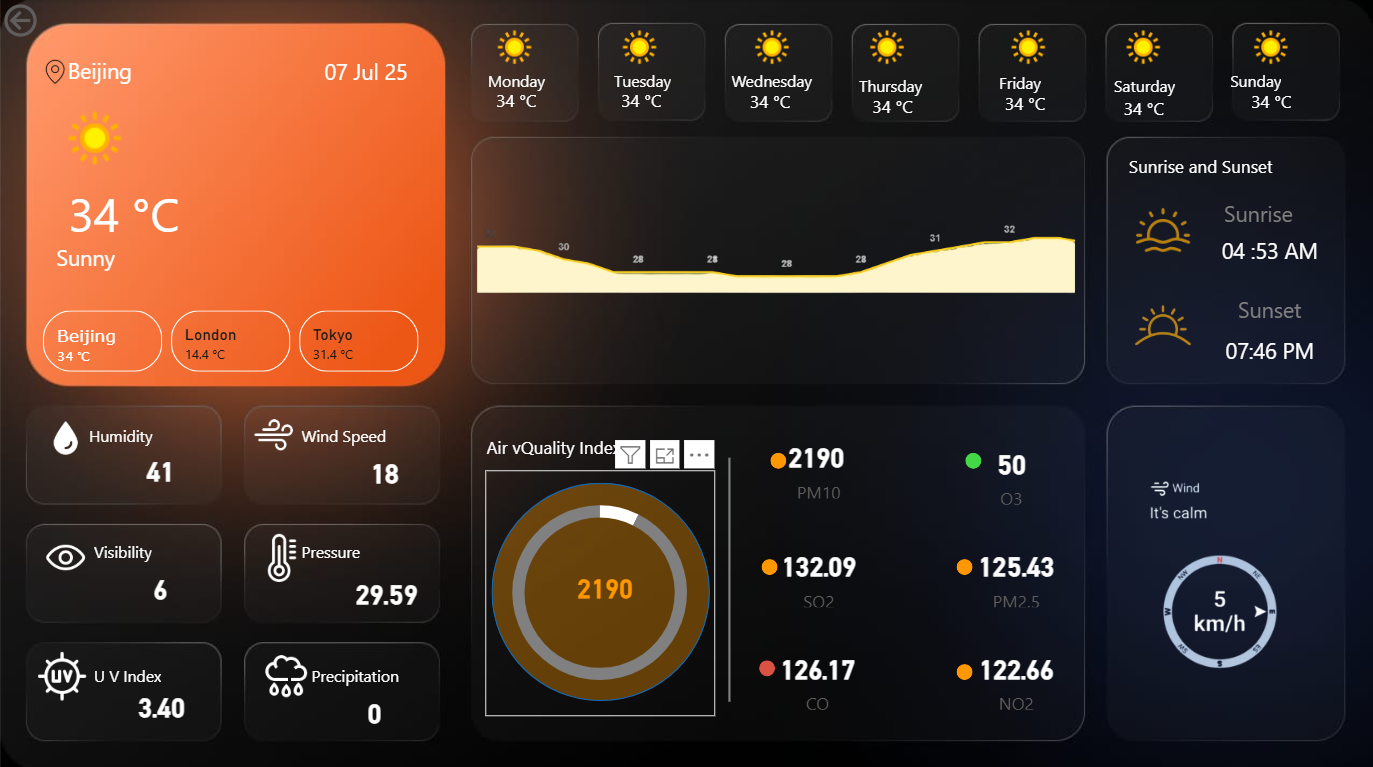

What the dashboard file says about the page in this screenshot:
{"tool":"powerbi","page":{"name":"Page 1","canvas":[1280,720],"ordinal":0},"visuals":[{"type":"shape","box":[457.7,450.2,203.1,203.1],"z":0},{"type":"shape","box":[17.8,144.1,197.6,109.8],"z":1000},{"type":"shape","box":[53.5,185.2,197.6,109.8],"z":2000},{"type":"shape","box":[64.5,37,140,57.6],"z":3000},{"type":"shape","box":[281.3,32.9,98.8,67.2],"z":4000},{"type":"image","box":[17.8,31.6,70,72.7],"z":5000},{"type":"advancedSlicerVisual","fields":{"Values":["Loccation.location.name"]},"box":[36,285.2,360.2,67.5],"z":6000},{"type":"cardVisual","fields":{"Data":["Min(Current.current.condition.icon)"]},"box":[24.7,68.6,126.2,98.8],"z":7000},{"type":"image","box":[229.2,381.5,52.1,48],"z":8000},{"type":"shape","box":[281.3,381.5,134.5,48],"z":9000},{"type":"image","box":[35.7,489.9,52.1,60.4],"z":10000},{"type":"image","box":[28.8,601,59,57.6],"z":11000},{"type":"image","box":[236,489.9,54.9,60.4],"z":12000},{"type":"image","box":[236,601,61.7,57.6],"z":13000},{"type":"image","box":[35.7,387,52.1,42.5],"z":14000},{"type":"shape","box":[1050.7,130.6,186.1,48],"z":15000},{"type":"shape","box":[87.8,489.9,134.5,48],"z":16000},{"type":"shape","box":[281.3,489.9,134.5,48],"z":17000},{"type":"shape","box":[87.8,605.1,134.5,48],"z":18000},{"type":"shape","box":[290.9,605.1,134.5,48],"z":19000},{"type":"card","fields":{"Values":["Sum(Current.current.humidity)"]},"box":[98.8,406.2,102.9,67.2],"z":20000},{"type":"card","fields":{"Values":["Sum(Current.current.wind_kph)"]},"box":[318.2,408.3,81.1,66],"z":21000},{"type":"card","fields":{"Values":["Sum(Current.current.vis_miles)"]},"box":[98.8,514.6,102.9,67.2],"z":22000},{"type":"card","fields":{"Values":["Sum(Current.current.pressure_in)"]},"box":[308.7,520.1,102.9,67.2],"z":23000},{"type":"card","fields":{"Values":["Sum(Current.current.uv)"]},"box":[100.2,625.7,102.9,67.2],"z":24000},{"type":"card","fields":{"Values":["Sum(Current.current.precip_in)"]},"box":[297.2,630.4,103.6,67.5],"z":25000},{"type":"actionButton","box":[0,0,100,40],"z":26000},{"type":"shape","box":[454.8,51,135.1,48],"z":27000},{"type":"shape","box":[571.9,51,135.1,48],"z":28000},{"type":"shape","box":[681.4,51,135.1,48],"z":29000},{"type":"shape","box":[800,55.5,135.1,48],"z":30000},{"type":"shape","box":[930.6,54,135.1,48],"z":31000},{"type":"shape","box":[1037.2,55.5,135.1,48],"z":32000},{"type":"shape","box":[1145.2,51,135.1,48],"z":33000},{"type":"cardVisual","fields":{"Data":["Min(Forcast_Day.Day_Name)"]},"box":[426.3,0,106.6,75],"z":34000},{"type":"cardVisual","fields":{"Data":["Min(Forcast_Day.Day_Name)"]},"box":[543.3,0,106.6,75],"z":35000},{"type":"cardVisual","fields":{"Data":["Min(Forcast_Day.Day_Name)"]},"box":[773,0,106.6,75],"z":36000},{"type":"cardVisual","fields":{"Data":["Min(Forcast_Day.Day_Name)"]},"box":[666.4,0,106.6,75],"z":37000},{"type":"cardVisual","fields":{"Data":["Min(Forcast_Day.Day_Name)"]},"box":[1130.2,0,106.6,75],"z":38000},{"type":"cardVisual","fields":{"Data":["Min(Forcast_Day.Day_Name)"]},"box":[905.1,0,106.6,75],"z":39000},{"type":"cardVisual","fields":{"Data":["Min(Forcast_Day.Day_Name)"]},"box":[1011.6,0,106.6,75],"z":40000},{"type":"shape","box":[399.3,66,165.1,55.5],"z":41000},{"type":"shape","box":[514.8,66,165.1,55.5],"z":42000},{"type":"shape","box":[634.9,67.5,165.1,55.5],"z":43000},{"type":"shape","box":[749,72,165.1,55.5],"z":44000},{"type":"shape","box":[1101.7,67.5,165.1,55.5],"z":45000},{"type":"shape","box":[872,69,165.1,55.5],"z":46000},{"type":"shape","box":[983.1,73.5,165.1,55.5],"z":47000},{"type":"image","box":[436,141.9,593,196.5],"z":48000},{"type":"shape","box":[83.7,381.5,134.5,48],"z":49000},{"type":"shape","box":[1083.7,178.6,196.6,109.6],"z":50000},{"type":"shape","box":[1083.7,271.7,196.6,109.6],"z":51000},{"type":"shape","box":[1073.2,144.1,196.6,109.6],"z":52000},{"type":"shape","box":[1083.7,234.1,196.6,109.6],"z":53000},{"type":"image","box":[926.1,264.2,315.2,79.6],"z":54000},{"type":"image","box":[962.1,184.6,241.7,60],"z":55000},{"type":"shape","box":[453.3,391.7,186.1,48],"z":56000},{"type":"card","fields":{"Values":["Sum(Current.current.air_quality.co)"]},"box":[719.8,405,81.5,65.2],"z":57000},{"type":"card","fields":{"Values":["Sum(Current.current.air_quality.pm10)"]},"box":[721,600.6,81.5,65.2],"z":58000},{"type":"card","fields":{"Values":["Sum(Current.current.air_quality.o3)"]},"box":[901.6,410,81.5,65.2],"z":59000},{"type":"card","fields":{"Values":["Sum(Current.current.air_quality.pm2_5)"]},"box":[905.3,505.3,81.5,65.2],"z":60000},{"type":"card","fields":{"Values":["Sum(Current.current.air_quality.no2)"]},"box":[905.3,600.6,81.5,65.2],"z":61000},{"type":"card","fields":{"Values":["Sum(Current.current.air_quality.so2)"]},"box":[722.3,505.3,81.5,65.2],"z":62000},{"type":"shape","box":[717.2,422.6,15,15],"z":63000},{"type":"shape","box":[707.2,615.7,15,15],"z":64000},{"type":"shape","box":[709.7,520.4,15,15],"z":65000},{"type":"shape","box":[899.1,422.6,15,15],"z":66000},{"type":"shape","box":[890.3,520.4,15,15],"z":67000},{"type":"shape","box":[890.3,618.2,15,15],"z":68000},{"type":"shape","box":[585.6,426.3,186.8,227],"z":69000},{"type":"card","fields":{"Values":["Sum(Current.current.air_quality.co)"]},"box":[522.9,515.4,81.5,65.2],"z":70000},{"type":"donutChart","fields":{"Y":["_Measures.Left_value_PM10","Sum(Current.current.air_quality.co)"]},"box":[452.7,438.9,213.2,228.2],"z":71000},{"type":"image","box":[1047,397.5,196.9,269.6],"z":72000}]}

Visuals, with their boxes in screenshot pixels (x1, y1, x2, y2), scaled from the page's 1280x720 canvas onto the 1373x767 screenshot:
shape: l=491, t=480, r=709, b=696
shape: l=19, t=154, r=231, b=270
shape: l=57, t=197, r=269, b=314
shape: l=69, t=39, r=219, b=101
shape: l=302, t=35, r=408, b=107
image: l=19, t=34, r=94, b=111
advancedSlicerVisual - Loccation.location.name: l=39, t=304, r=425, b=376
cardVisual - Min(Current.current.condition.icon): l=26, t=73, r=162, b=178
image: l=246, t=406, r=302, b=458
shape: l=302, t=406, r=446, b=458
image: l=38, t=522, r=94, b=586
image: l=31, t=640, r=94, b=702
image: l=253, t=522, r=312, b=586
image: l=253, t=640, r=319, b=702
image: l=38, t=412, r=94, b=458
shape: l=1127, t=139, r=1327, b=190
shape: l=94, t=522, r=238, b=573
shape: l=302, t=522, r=446, b=573
shape: l=94, t=645, r=238, b=696
shape: l=312, t=645, r=456, b=696
card - Sum(Current.current.humidity): l=106, t=433, r=216, b=504
card - Sum(Current.current.wind_kph): l=341, t=435, r=428, b=505
card - Sum(Current.current.vis_miles): l=106, t=548, r=216, b=620
card - Sum(Current.current.pressure_in): l=331, t=554, r=442, b=626
card - Sum(Current.current.uv): l=107, t=667, r=218, b=738
card - Sum(Current.current.precip_in): l=319, t=672, r=430, b=743
actionButton: l=0, t=0, r=107, b=43
shape: l=488, t=54, r=633, b=105
shape: l=613, t=54, r=758, b=105
shape: l=731, t=54, r=876, b=105
shape: l=858, t=59, r=1003, b=110
shape: l=998, t=58, r=1143, b=109
shape: l=1113, t=59, r=1257, b=110
shape: l=1228, t=54, r=1372, b=105
cardVisual - Min(Forcast_Day.Day_Name): l=457, t=0, r=572, b=80
cardVisual - Min(Forcast_Day.Day_Name): l=583, t=0, r=697, b=80
cardVisual - Min(Forcast_Day.Day_Name): l=829, t=0, r=944, b=80
cardVisual - Min(Forcast_Day.Day_Name): l=715, t=0, r=829, b=80
cardVisual - Min(Forcast_Day.Day_Name): l=1212, t=0, r=1327, b=80
cardVisual - Min(Forcast_Day.Day_Name): l=971, t=0, r=1085, b=80
cardVisual - Min(Forcast_Day.Day_Name): l=1085, t=0, r=1199, b=80
shape: l=428, t=70, r=605, b=129
shape: l=552, t=70, r=729, b=129
shape: l=681, t=72, r=858, b=131
shape: l=803, t=77, r=981, b=136
shape: l=1182, t=72, r=1359, b=131
shape: l=935, t=74, r=1112, b=133
shape: l=1055, t=78, r=1232, b=137
image: l=468, t=151, r=1104, b=360
shape: l=90, t=406, r=234, b=458
shape: l=1162, t=190, r=1372, b=307
shape: l=1162, t=289, r=1372, b=406
shape: l=1151, t=154, r=1362, b=270
shape: l=1162, t=249, r=1372, b=366
image: l=993, t=281, r=1331, b=366
image: l=1032, t=197, r=1291, b=261
shape: l=486, t=417, r=686, b=468
card - Sum(Current.current.air_quality.co): l=772, t=431, r=860, b=501
card - Sum(Current.current.air_quality.pm10): l=773, t=640, r=861, b=709
card - Sum(Current.current.air_quality.o3): l=967, t=437, r=1055, b=506
card - Sum(Current.current.air_quality.pm2_5): l=971, t=538, r=1058, b=608
card - Sum(Current.current.air_quality.no2): l=971, t=640, r=1058, b=709
card - Sum(Current.current.air_quality.so2): l=775, t=538, r=862, b=608
shape: l=769, t=450, r=785, b=466
shape: l=759, t=656, r=775, b=672
shape: l=761, t=554, r=777, b=570
shape: l=964, t=450, r=981, b=466
shape: l=955, t=554, r=971, b=570
shape: l=955, t=659, r=971, b=675
shape: l=628, t=454, r=829, b=696
card - Sum(Current.current.air_quality.co): l=561, t=549, r=648, b=619
donutChart - _Measures.Left_value_PM10 x Sum(Current.current.air_quality.co): l=486, t=468, r=714, b=711
image: l=1123, t=423, r=1334, b=711
